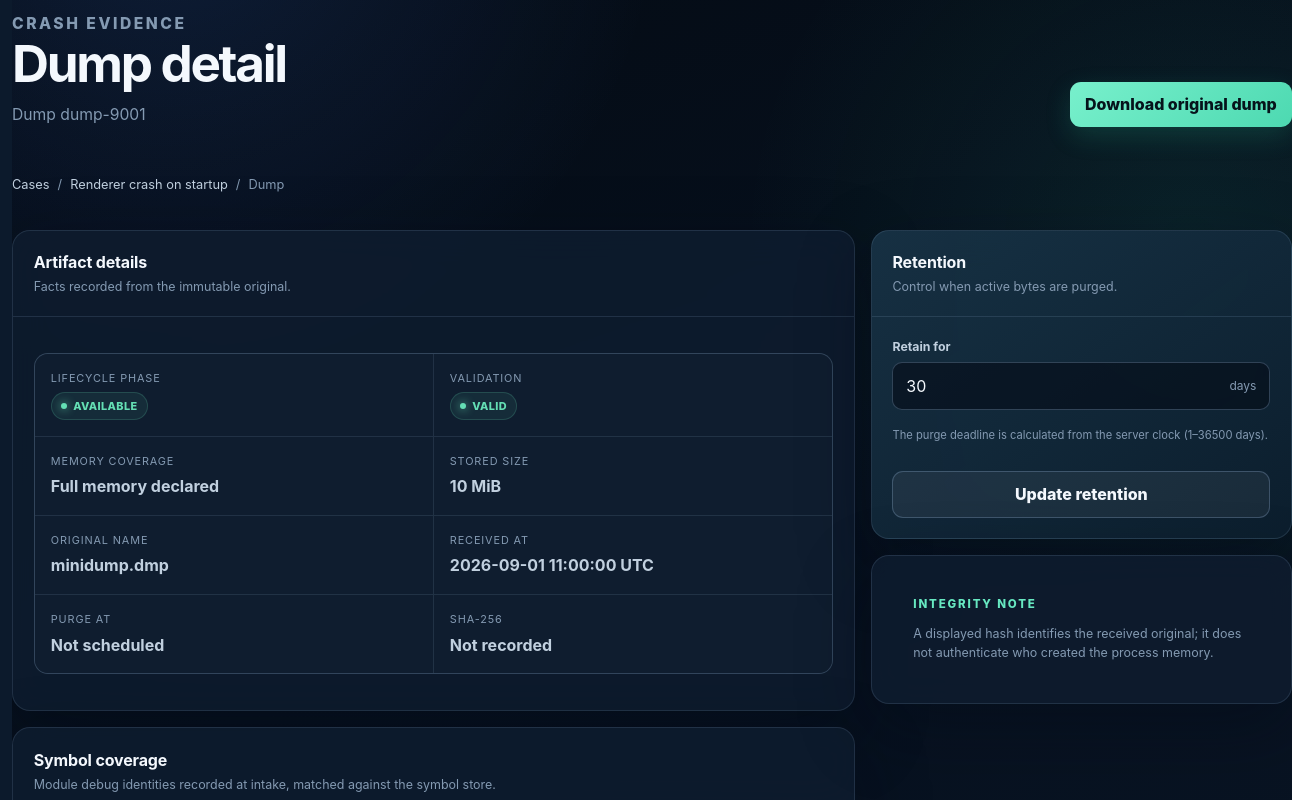
it: Dump detail operator page › validates retention as bounded whole days
Expected: the text "Available" is shown, [51,392,148,420]
Replace the text in the number field labelled "Retain for" with "0" at [1055, 386], box [894,363,1217,409]
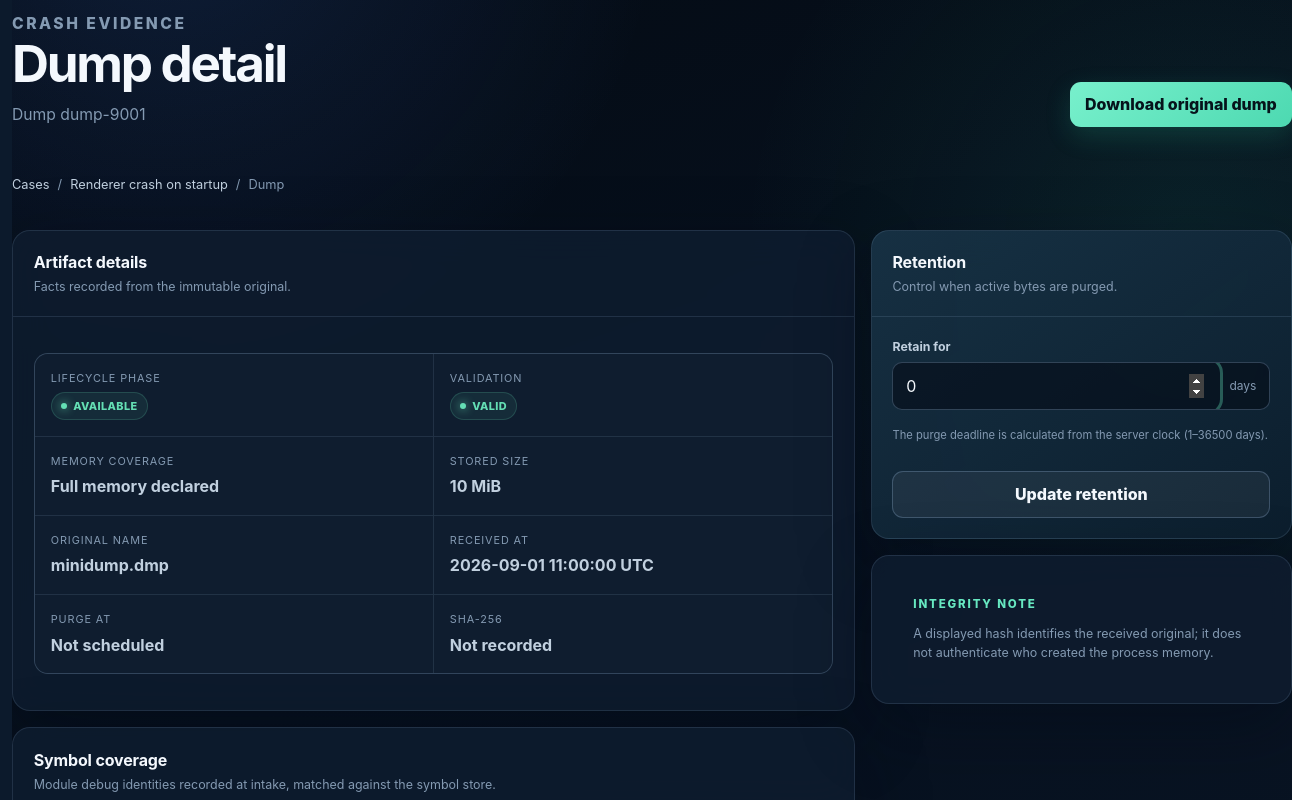
Click the button "Update retention" at [1081, 494], box [892,471,1270,518]
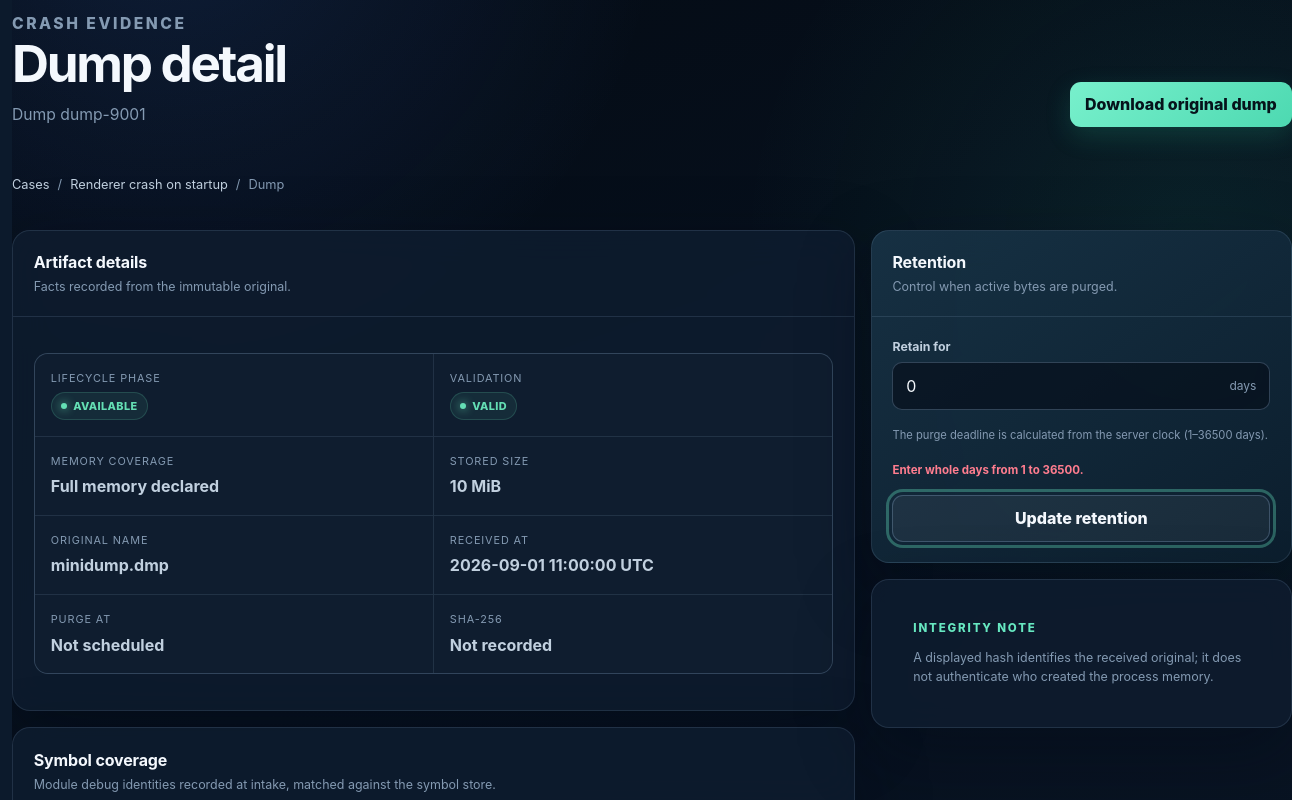
Expected: the message reads "Enter whole days from 1 to 36500.", [892,463,1084,477]
